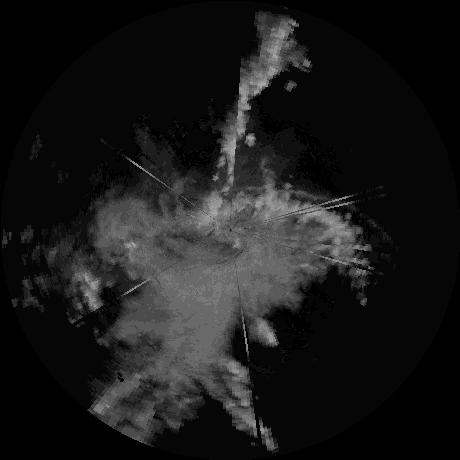frontgust: (282, 190, 385, 234), (236, 181, 266, 193)
